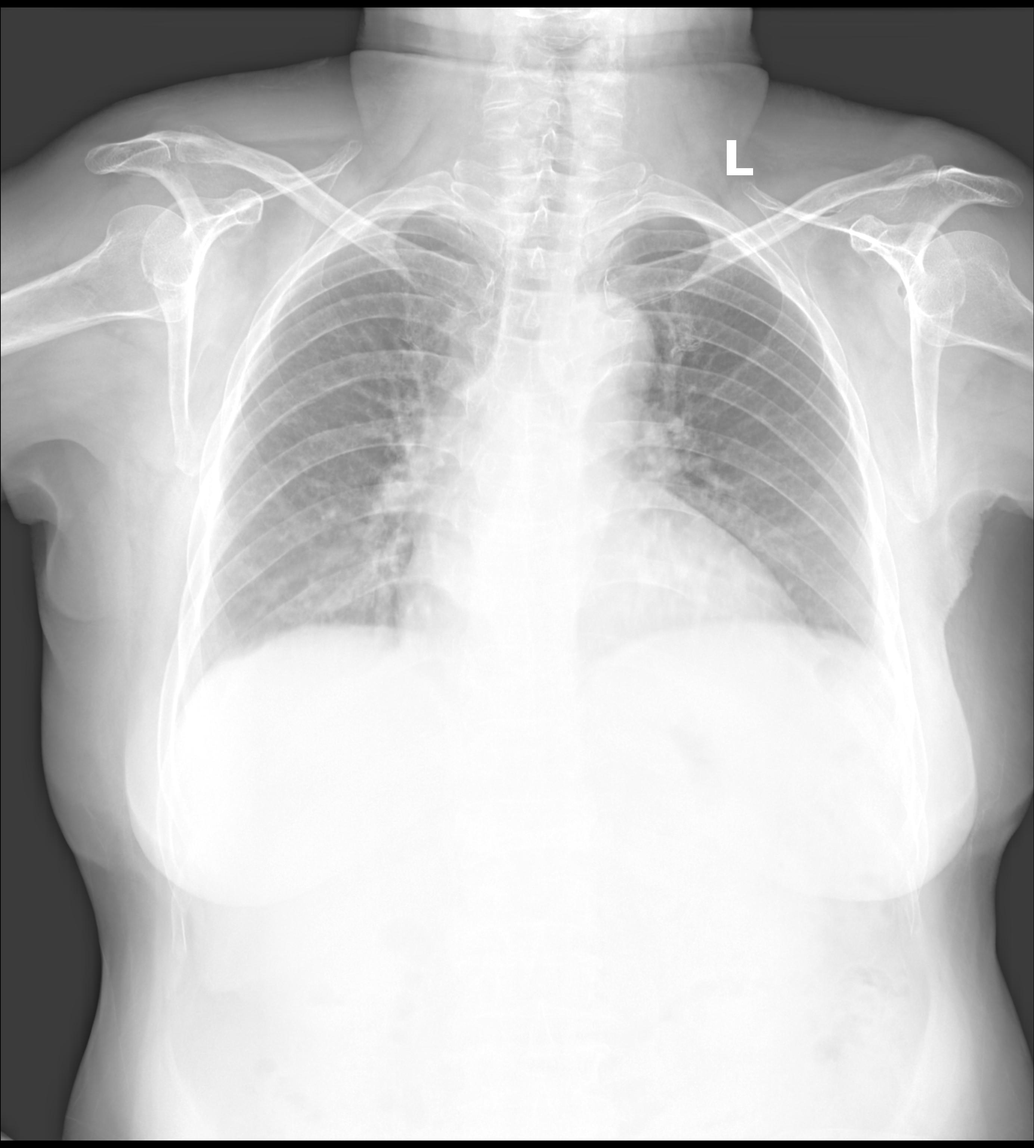Aortic enlargement: (544, 289, 655, 396)
Cardiomegaly: (391, 562, 799, 627)
